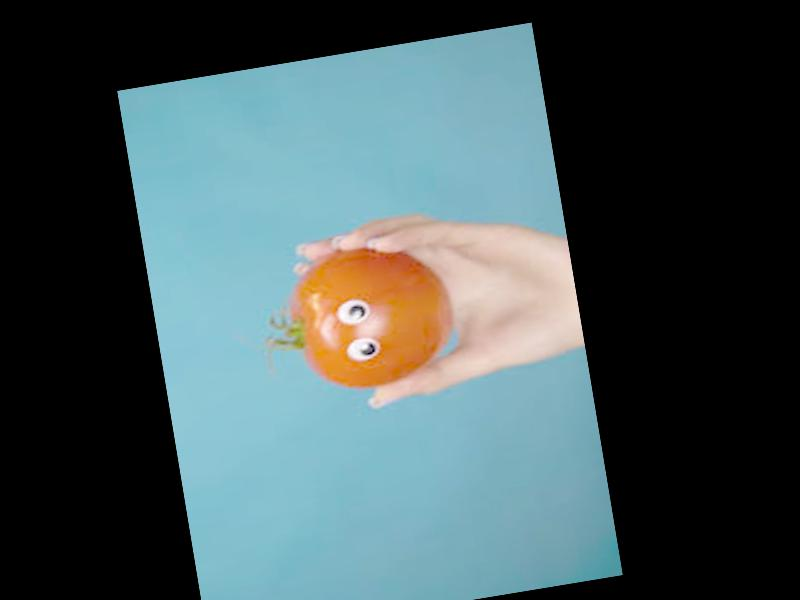Tomato: (279, 233, 463, 400)
